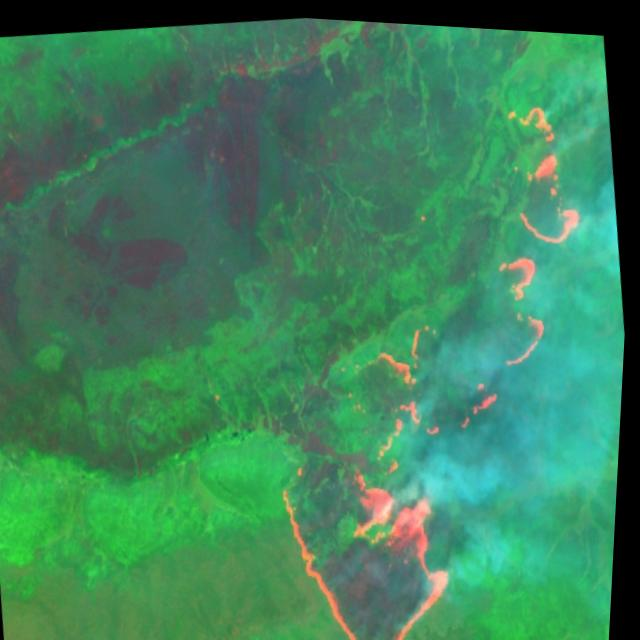fire: (230, 76, 637, 640)
